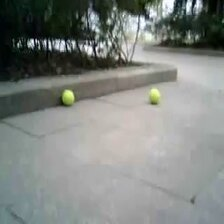tennis: (62, 89, 74, 105), (149, 89, 160, 104)
